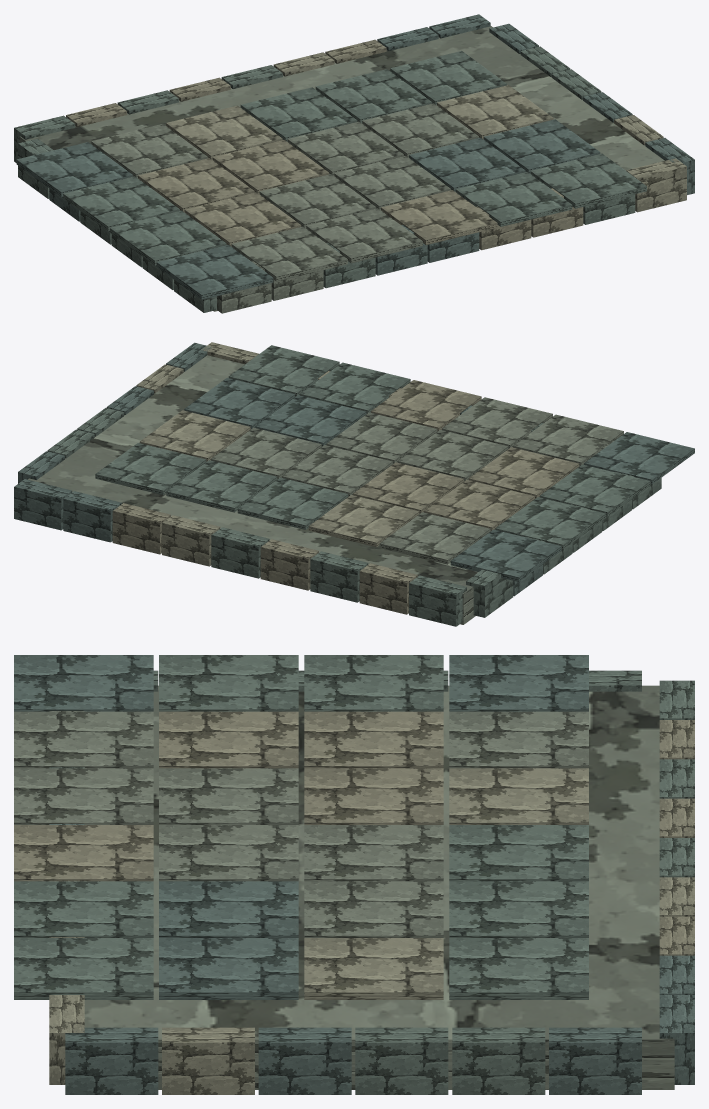
File: terrace.glb
The picture shows the model from 3 angles, top to bottom: view 1: azimuth 30°, elevation 25°; view 2: azimuth 150°, elevation 25°; view 3: azimuth 270°, elevation 25°; orthographic projection. The views are drawn at different scales.
Visible parts, largest first — view 1: terrace; view 2: terrace; view 3: terrace.
Boxes of the visible parts, x1,y1,x2,y2 form: terrace: (14, 14, 694, 313); terrace: (14, 342, 694, 626); terrace: (14, 655, 694, 1094).
Bounding box in the file's own units: 4.91 × 0.3445 × 3.66.
Materials: 1 (1 with a texture image).
